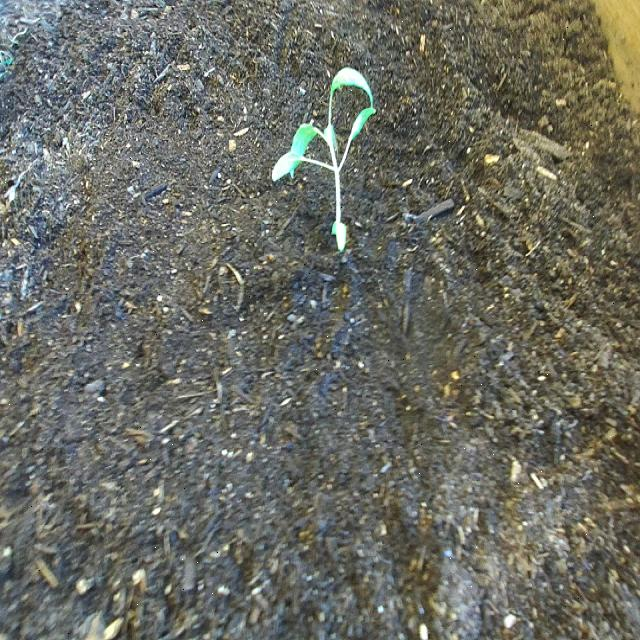Healthy: (266, 50, 383, 272)
